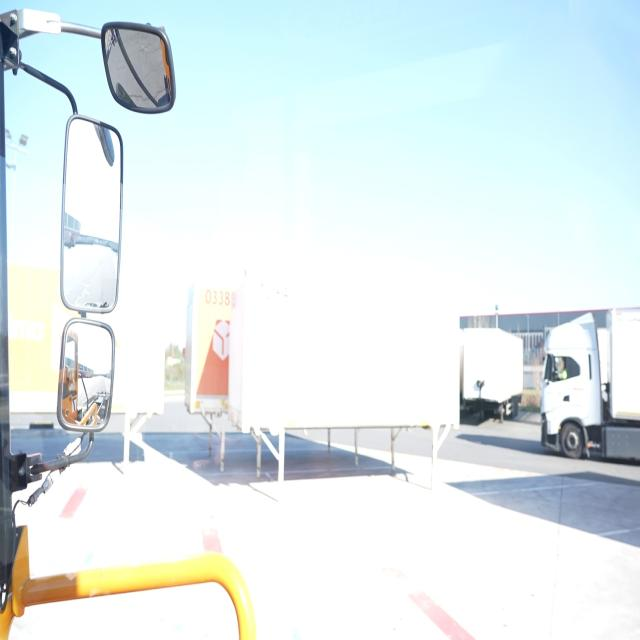Code: (200, 280, 233, 314)
